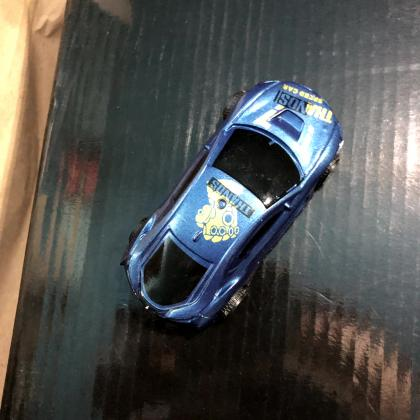Car: (117, 76, 348, 333)
